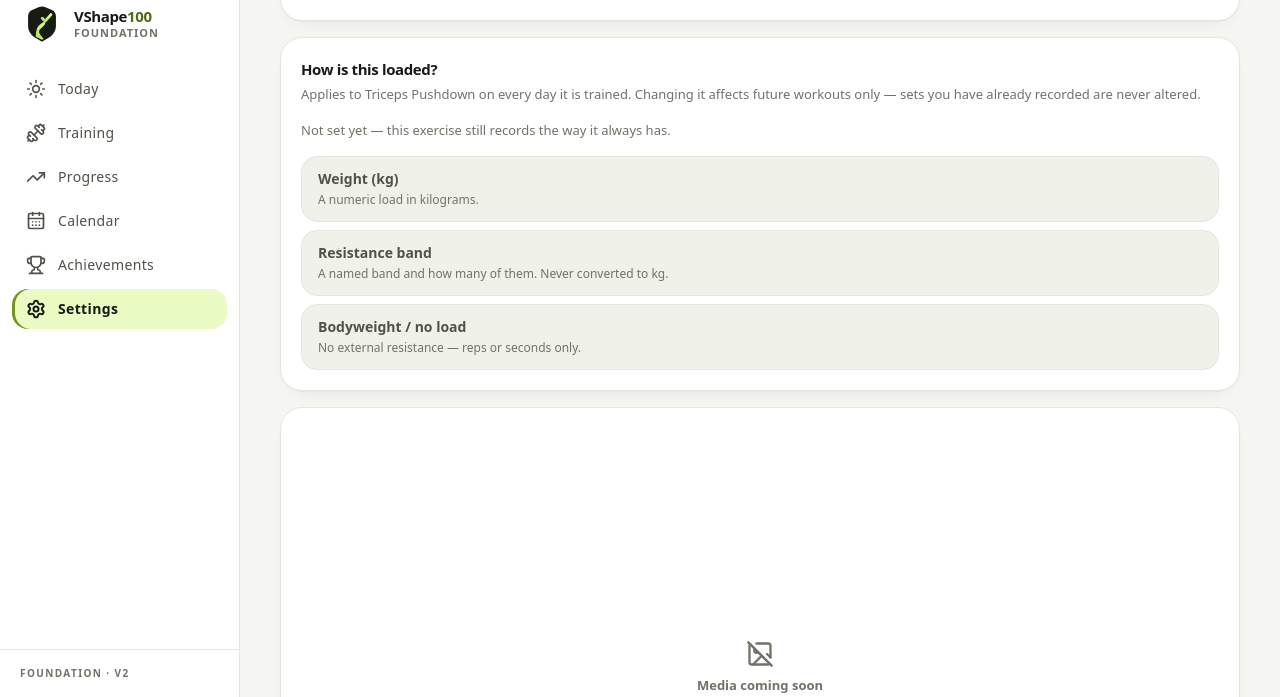
Test case: the input type selector › reads and writes the one canonical record for this exercise slug
The width and height of the screenshot is (1280, 697).
(page scrolled)
Expected: the text "Not set yet — this exercise still records the way it always has." is shown, [301, 121, 671, 140]
Click the radio button that starts with "Bodyweight / no load" at (392, 327), box [301, 304, 1219, 370]
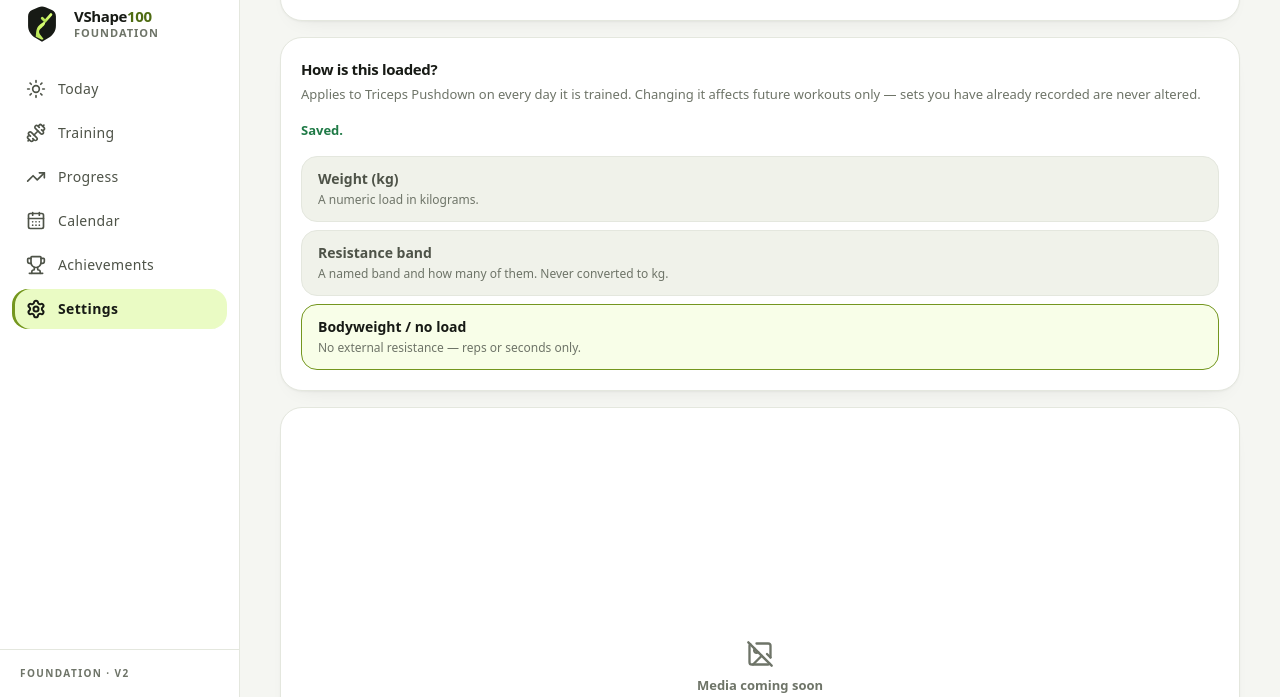
Expected: the text "Saved." is shown, [301, 121, 343, 140]
